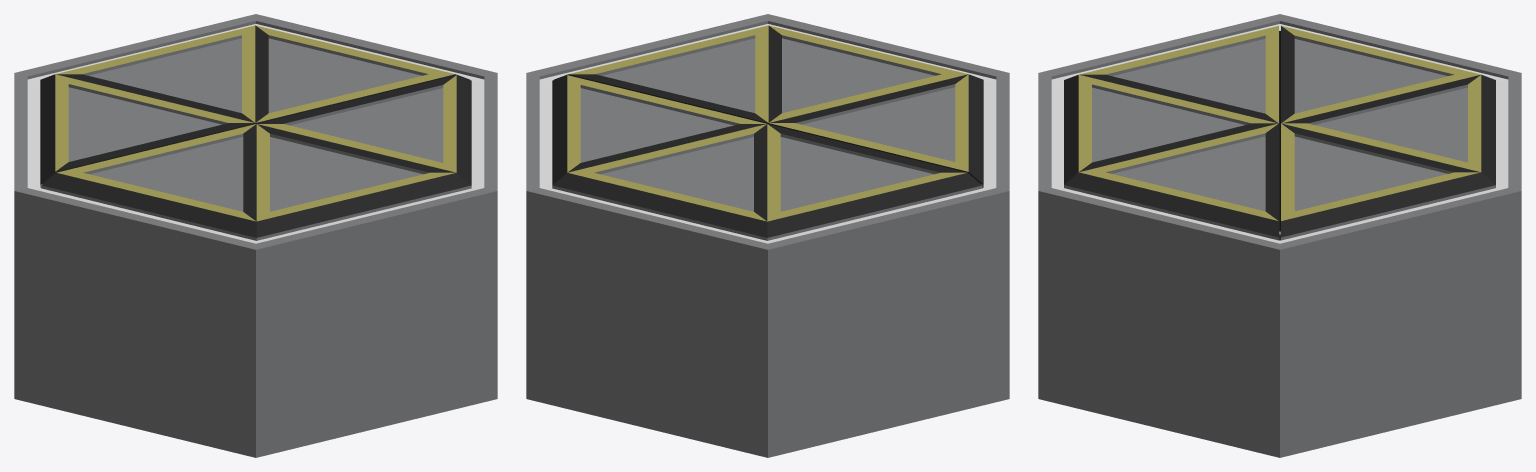
Rendered from RobotApprovalConveyorRejectionHatch.fbx.
The picture shows the model from 3 angles, left to right: view 1: azimuth 30°, elevation 25°; view 2: azimuth 150°, elevation 25°; view 3: azimuth 270°, elevation 25°; orthographic projection.
Visible parts, largest first — view 1: GarbageChuteEntrance, GarbageChute3_002, GarbageChute3_003; view 2: GarbageChuteEntrance, GarbageChute3_003, GarbageChute3_002; view 3: GarbageChuteEntrance, GarbageChute3_003, GarbageChute3_002.
Part boxes in pixels (x1,y1,x2,y2): GarbageChuteEntrance: (14, 14, 497, 457); GarbageChute3_002: (41, 75, 471, 240); GarbageChute3_003: (40, 25, 469, 187); GarbageChuteEntrance: (526, 14, 1009, 457); GarbageChute3_003: (552, 75, 982, 240); GarbageChute3_002: (554, 25, 983, 187); GarbageChuteEntrance: (1038, 14, 1521, 457); GarbageChute3_003: (1281, 26, 1495, 240); GarbageChute3_002: (1064, 26, 1278, 240).
Size of the model in its own units: 4.18 by 1.79 by 3.62.
